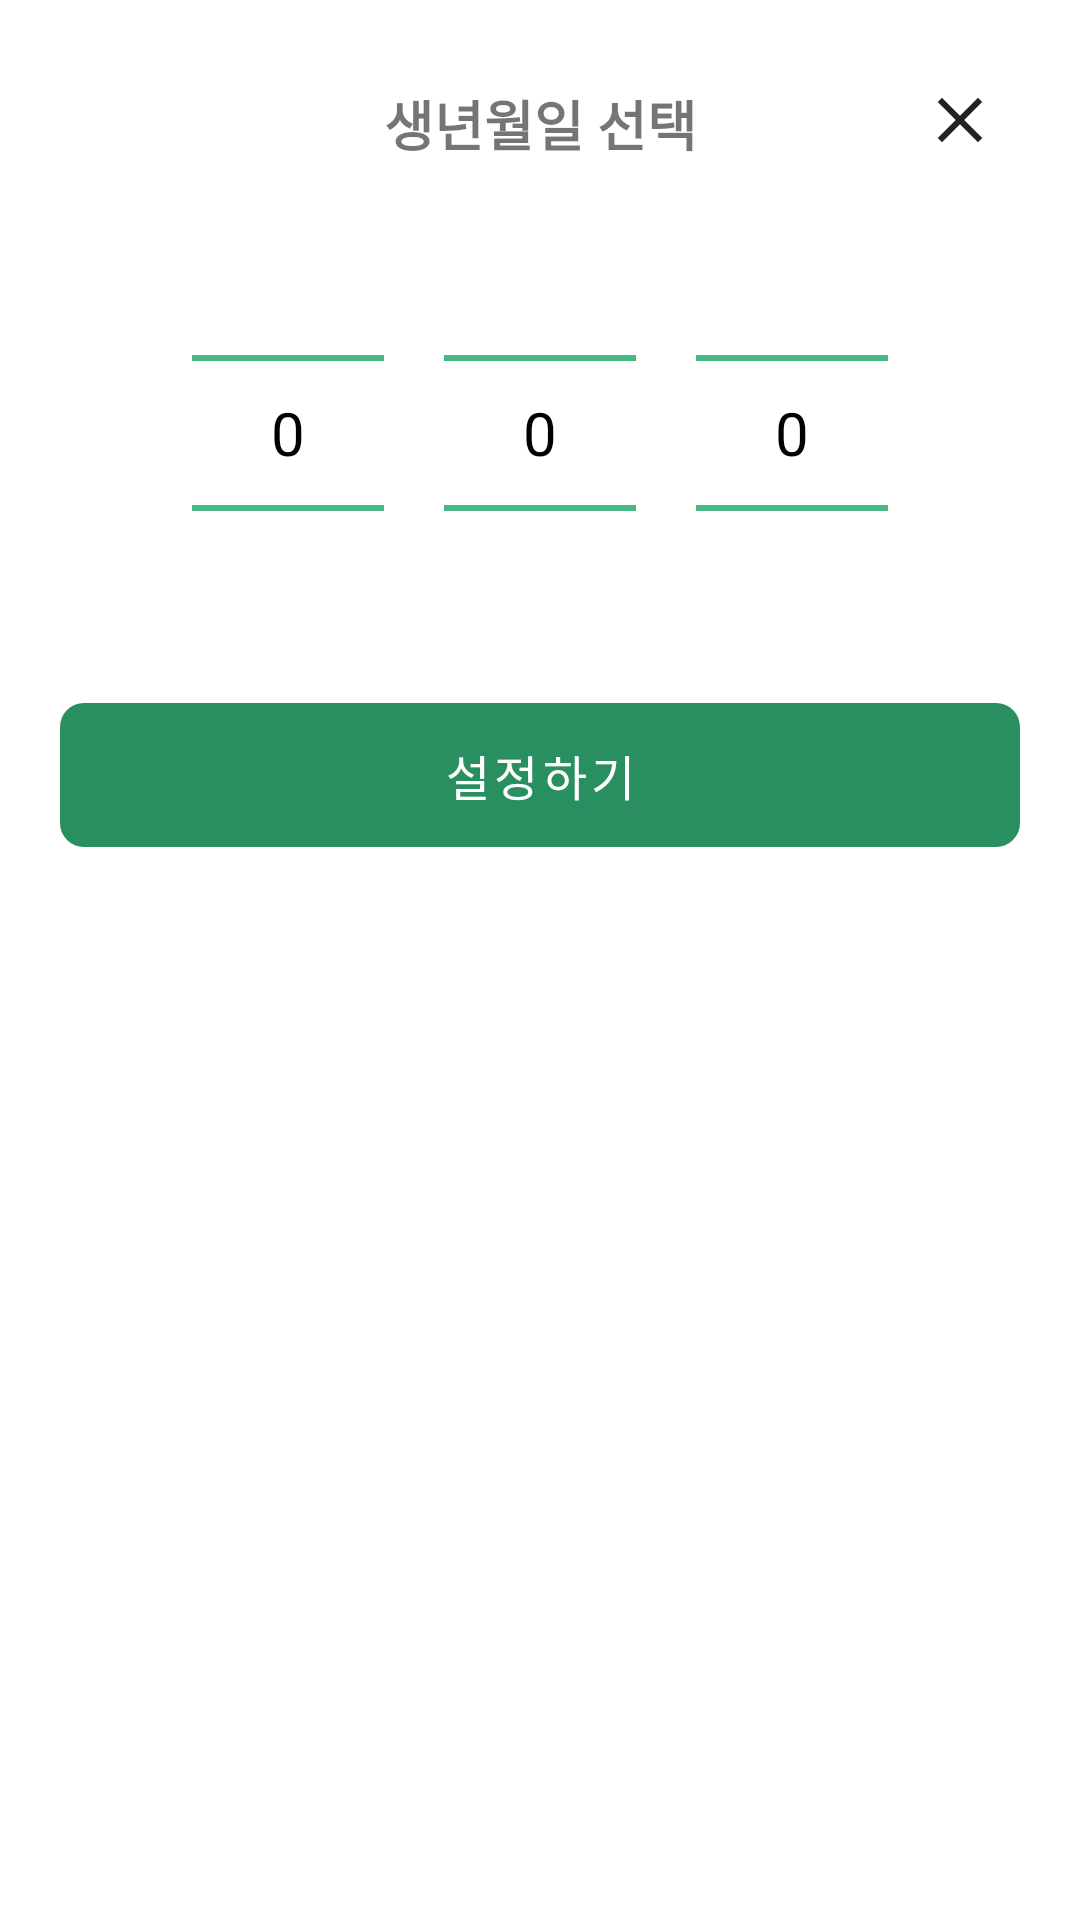

Icon bounding boxes for this 1080w x 1920h phone screenshot, format (x1, y1, x2, y2):
all close: (938, 98, 982, 142)
